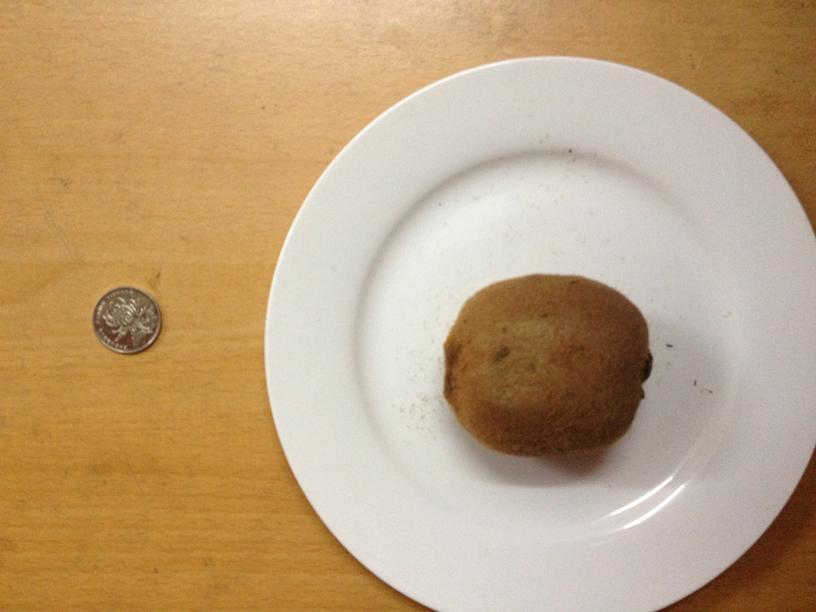coin: (90, 288, 161, 354)
qiwi: (444, 275, 652, 456)
